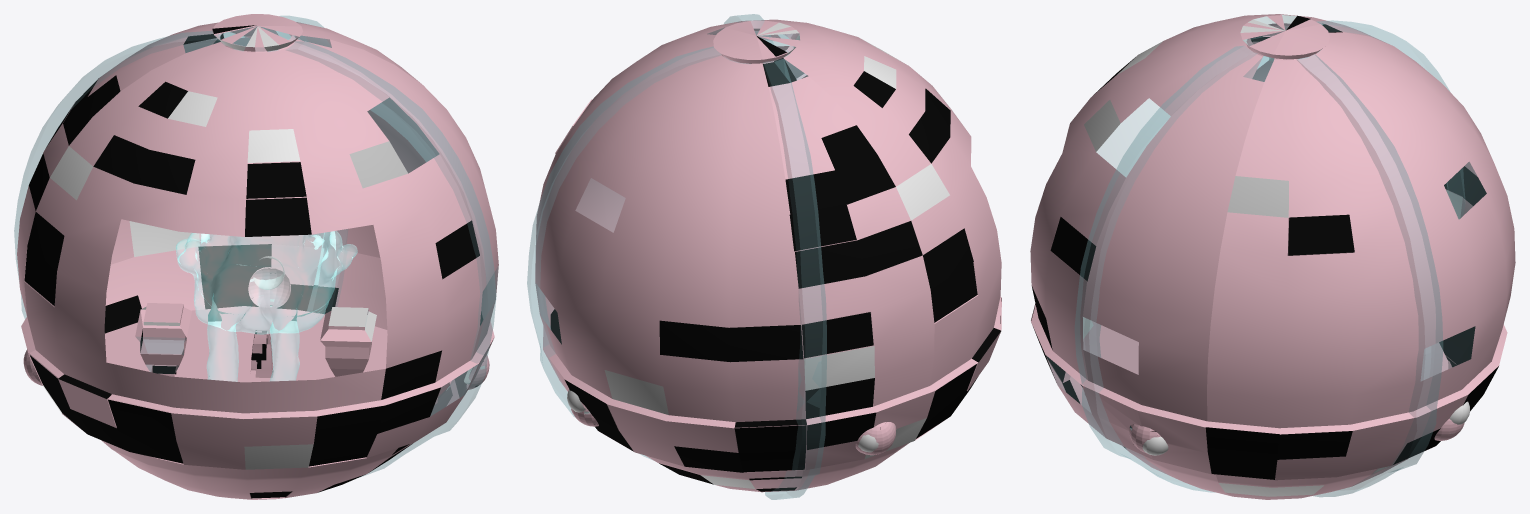
The picture shows the model from 3 angles, left to right: view 1: azimuth 30°, elevation 25°; view 2: azimuth 150°, elevation 25°; view 3: azimuth 270°, elevation 25°; orthographic projection. The views are drawn at different scales.
Parts seen in each view (by area): view 1: glassball, bodyscan, pasted__pasted__pCube3, pasted__pCube3, pasted__pasted__pasted__pCube3; view 2: glassball, pasted__pCube3, pasted__pasted__pasted__pCube3; view 3: glassball, pasted__pasted__pasted__pCube3, pasted__pasted__pCube3, pasted__pCube3.
Part boxes in pixels (bbox=[...]): glassball: bbox=[17, 14, 498, 499]; bodyscan: bbox=[176, 231, 357, 381]; pasted__pasted__pCube3: bbox=[286, 41, 496, 477]; pasted__pCube3: bbox=[14, 31, 249, 318]; pasted__pasted__pasted__pCube3: bbox=[261, 16, 347, 313]; glassball: bbox=[535, 19, 1001, 492]; pasted__pCube3: bbox=[763, 58, 826, 499]; pasted__pasted__pasted__pCube3: bbox=[527, 46, 721, 459]; glassball: bbox=[1030, 14, 1515, 499]; pasted__pasted__pasted__pCube3: bbox=[1297, 54, 1442, 496]; pasted__pasted__pCube3: bbox=[1075, 46, 1270, 492]; pasted__pCube3: bbox=[1317, 20, 1464, 218].
Size of the model in its own units: 0.0244 by 0.0251 by 0.0244.
